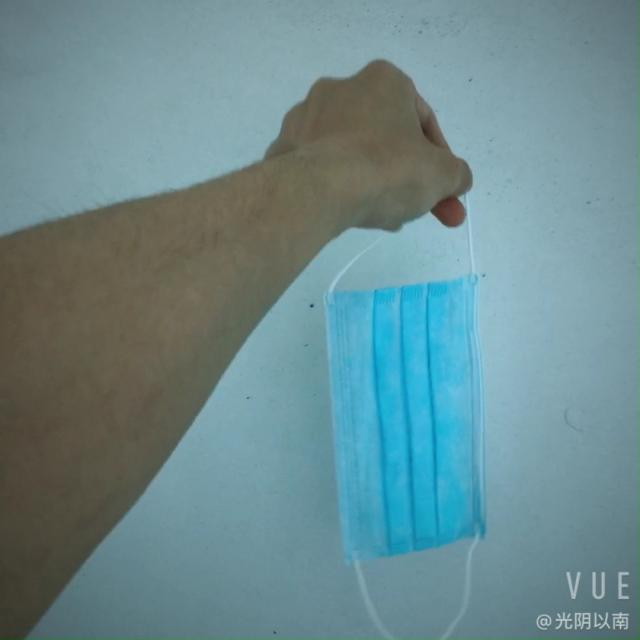face mask: (297, 266, 495, 560)
